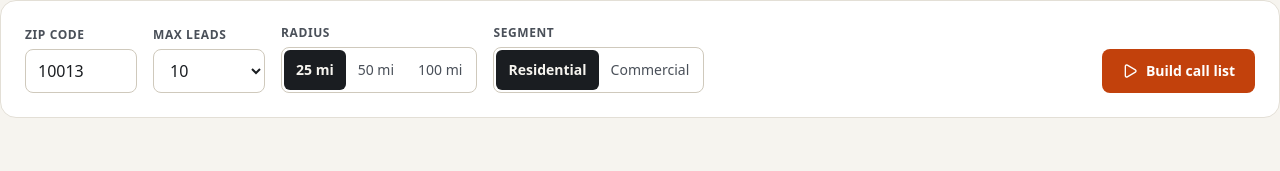
Test: RunPanel form › rejects an invalid ZIP and disables the run button
The image size is (1280, 171).
Replace the text in the field labelled "ZIP code" with "12a" at (81, 71), box [25,49,137,93]
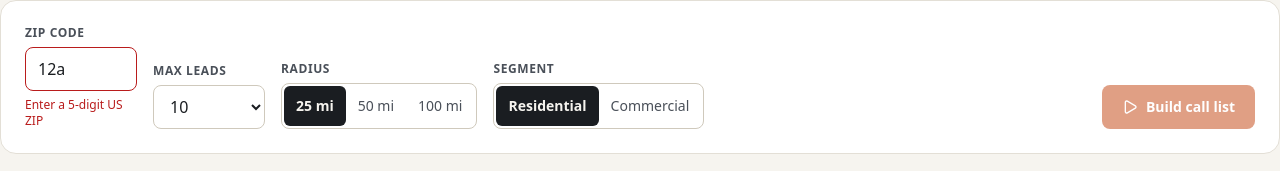
Expected: the text "Enter a 5-digit US ZIP" is shown, [25,97,137,129]
Expected: the button "Build call list" is disabled, [1102,85,1255,129]
